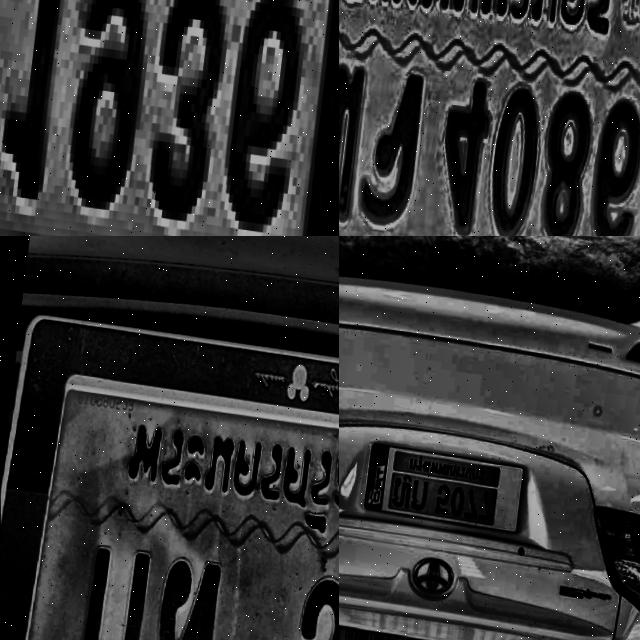license-plate: (0, 279, 339, 640), (0, 0, 339, 236), (339, 0, 640, 236), (354, 430, 530, 533)
